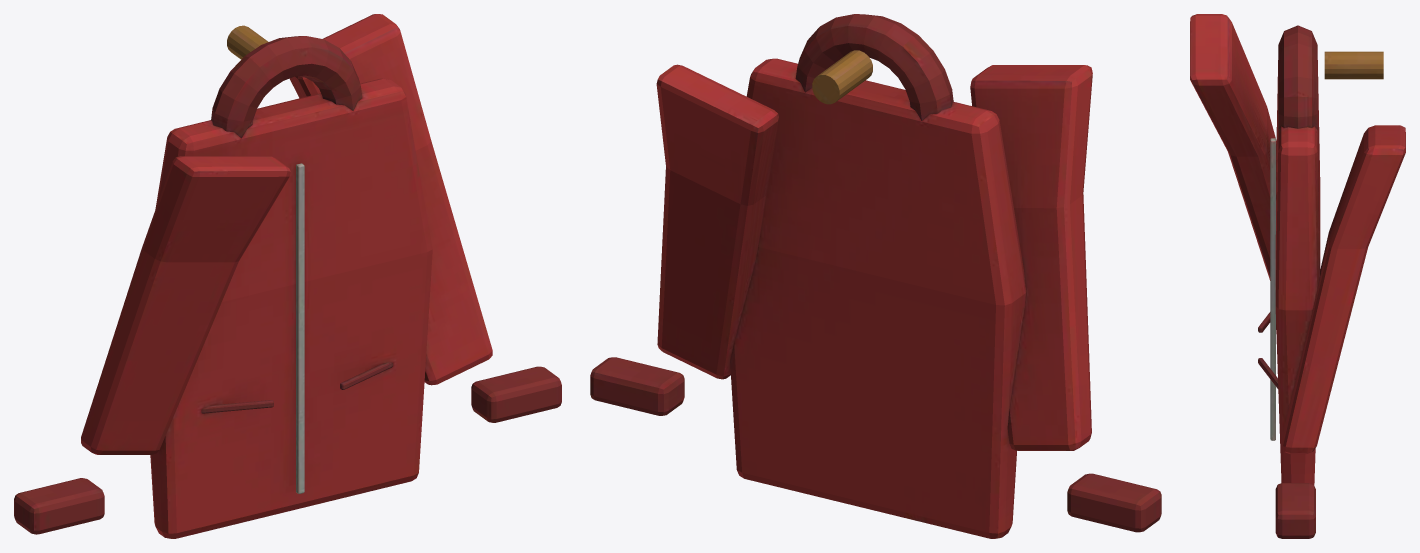
File: dressing-jacket.glb
3 views of the same model, side by side, from view 1: azimuth 30°, elevation 25°; view 2: azimuth 150°, elevation 25°; view 3: azimuth 270°, elevation 25° (orthographic). The views are drawn at different scales.
Visible parts, largest first — view 1: case-baked; view 2: case-baked; view 3: case-baked.
Boxes of the visible parts, x1,y1,x2,y2 form: case-baked: (14, 14, 561, 538); case-baked: (590, 14, 1161, 538); case-baked: (1190, 14, 1405, 538).
Size of the model in its own units: 1 by 0.845 by 0.3843.
1 material, 1 textured.
